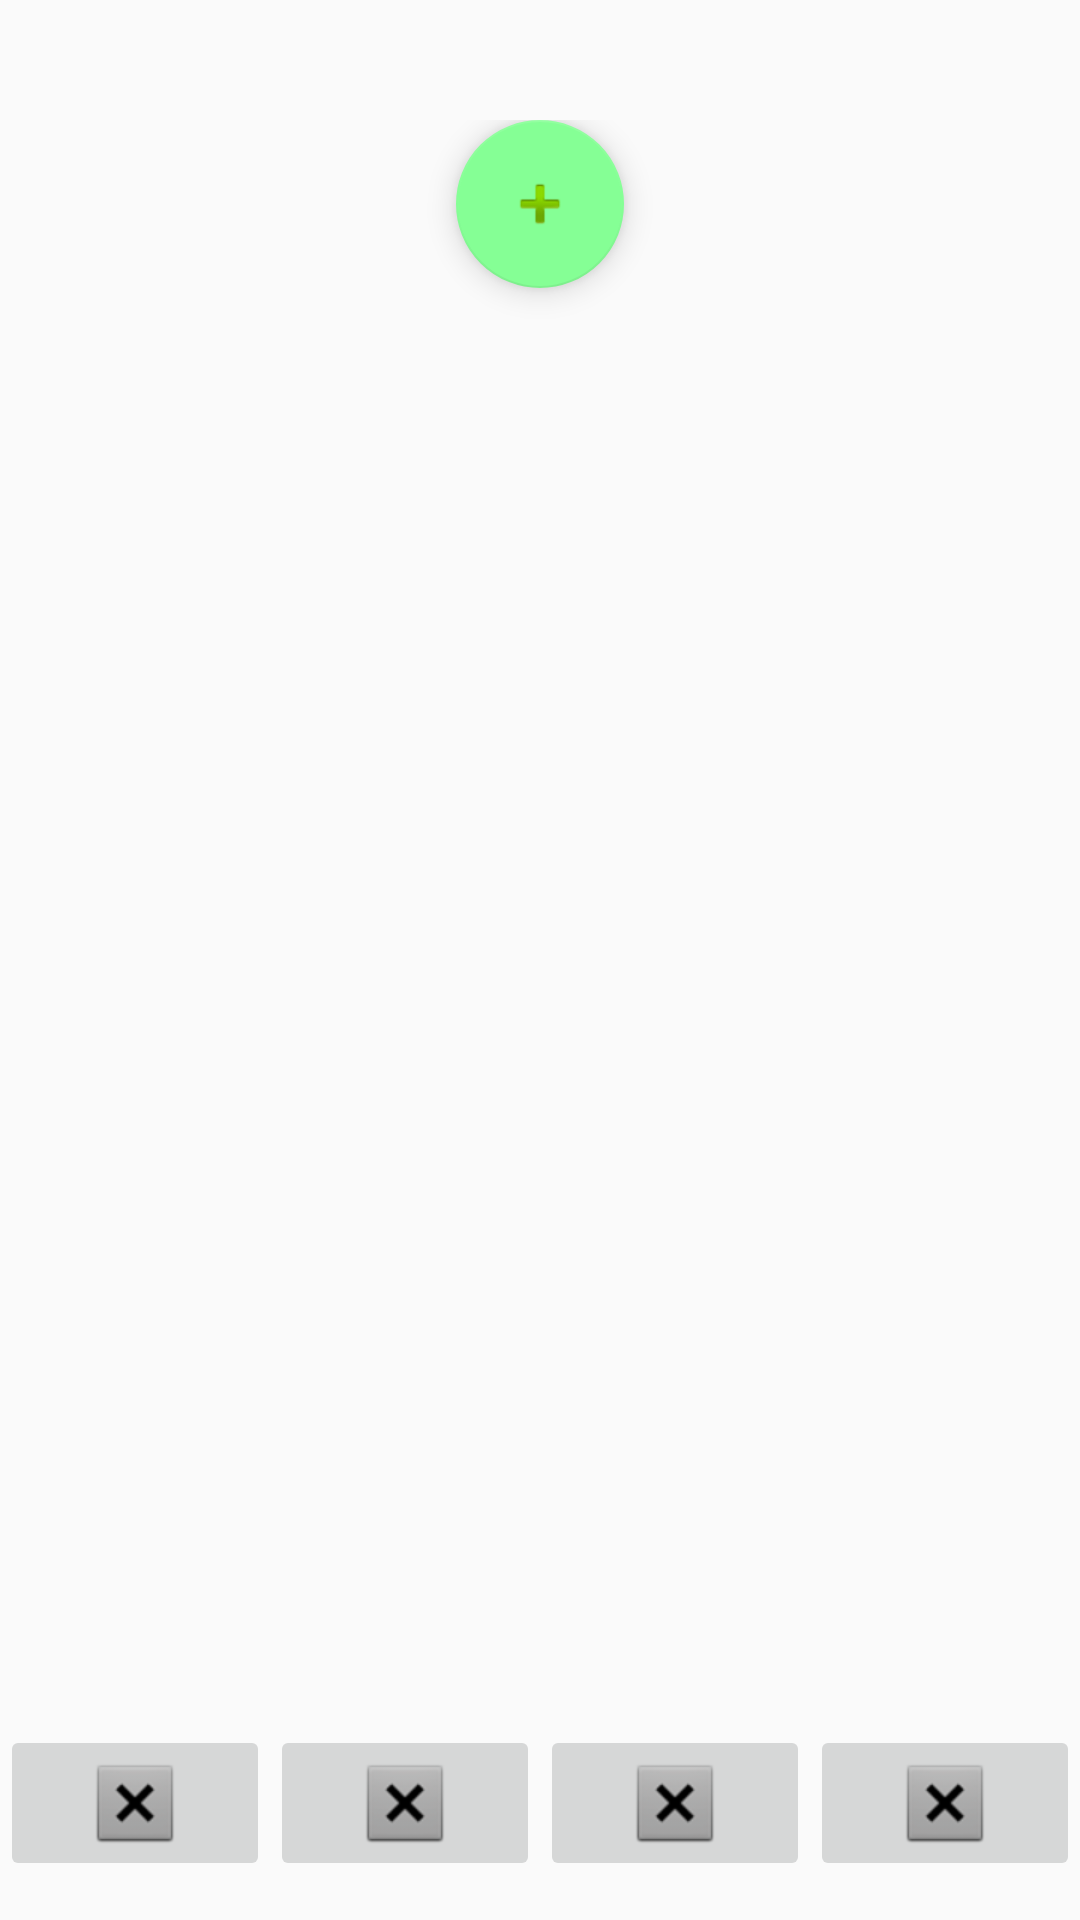

Icons on this 1080 x 1920 Android screen, each with its box as (x1, y1, x2, y2):
add: (456, 120, 624, 288)
